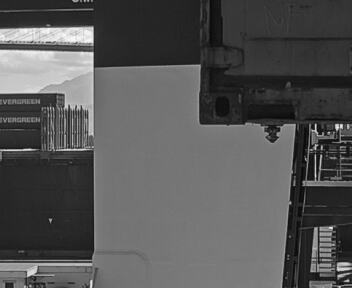twist_lock_2: (249, 120, 279, 146)
